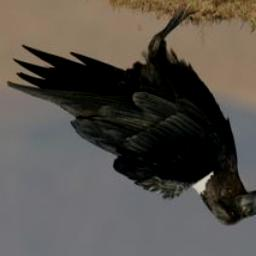Crow: (5, 1, 256, 230)
